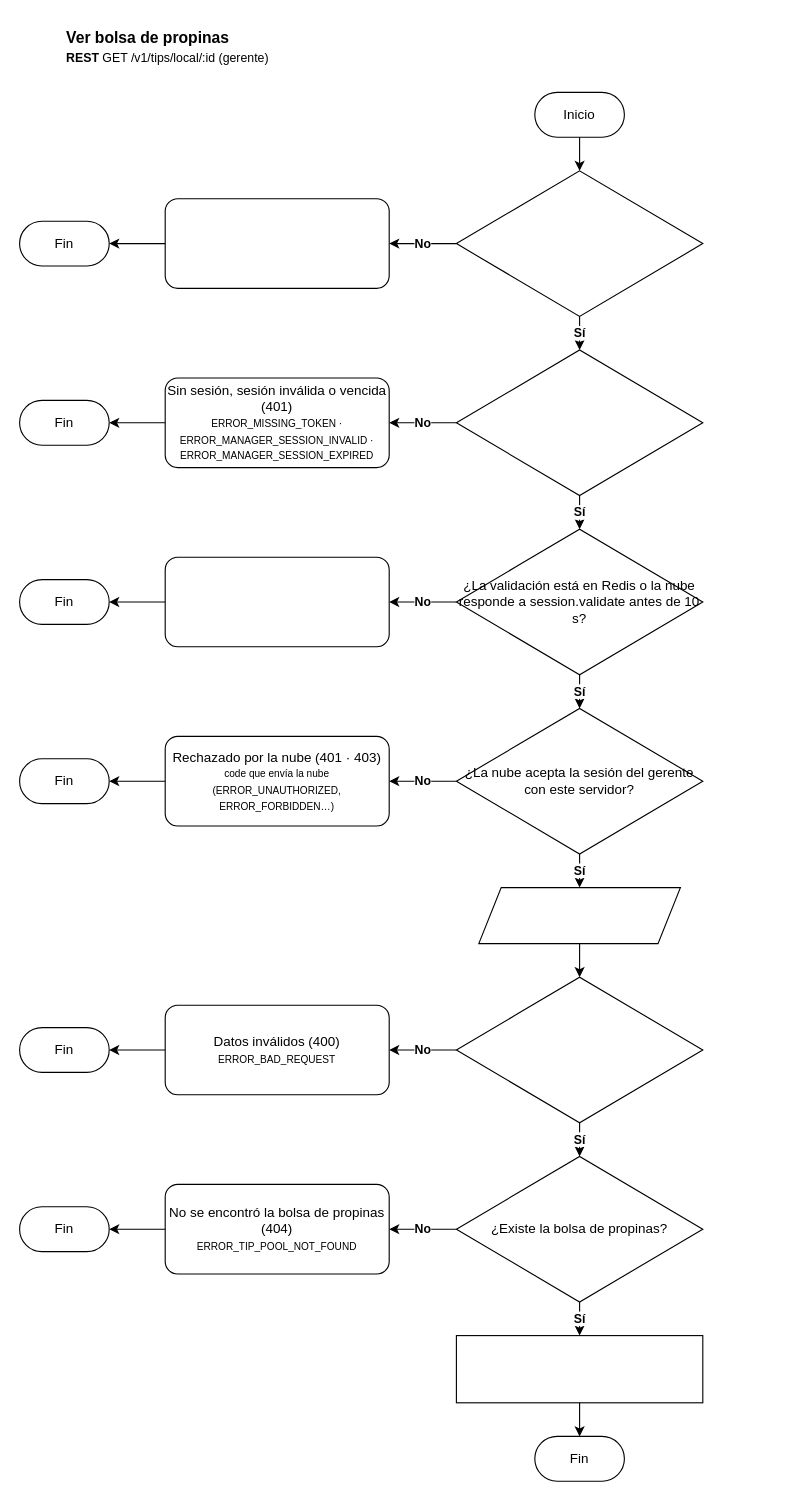
Some shapes in this 801 by 1501 pixel diagram are drawn without their labels. The centre of each missing label's shape, as x and y in pixels:
La nube no responde (503) ERROR_CLOUD_UNAVAILABLE · ERROR_SERVER_UNLINKED: (276,601)
Recibir datos: (579,915)
Responder 200 con el mensaje POOL_RETRIEVED: (579,1368)
Servidor sin emparejar (409) ERROR_SERVER_NOT_PAIRED: (276,243)
¿El servidor ya se emparejó alguna vez (pairing_status distinto de unpaired)?: (579,243)
¿Los datos son válidos?: (579,1049)
¿Trae una sesión de gerente válida (Bearer mss_..., sin 30 min de inactividad)?: (579,422)
